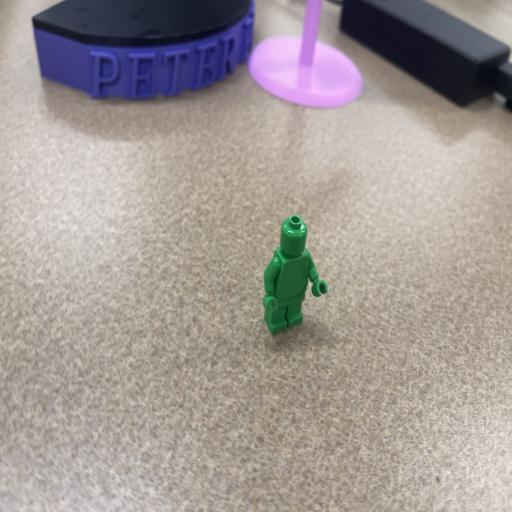Lego-Minifig: (263, 215, 327, 334)
